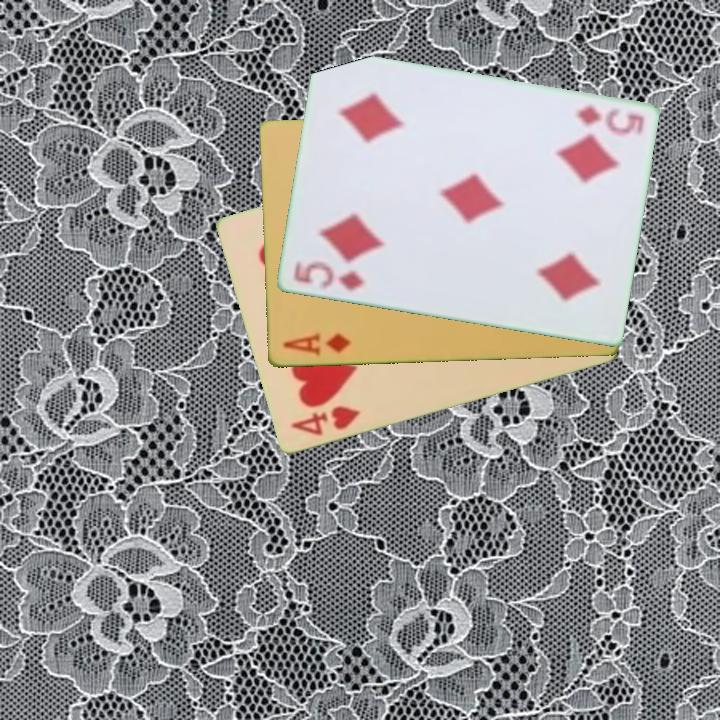4h: (287, 403, 364, 439)
5d: (289, 257, 368, 295), (572, 101, 647, 138)
Ad: (279, 330, 353, 360)
